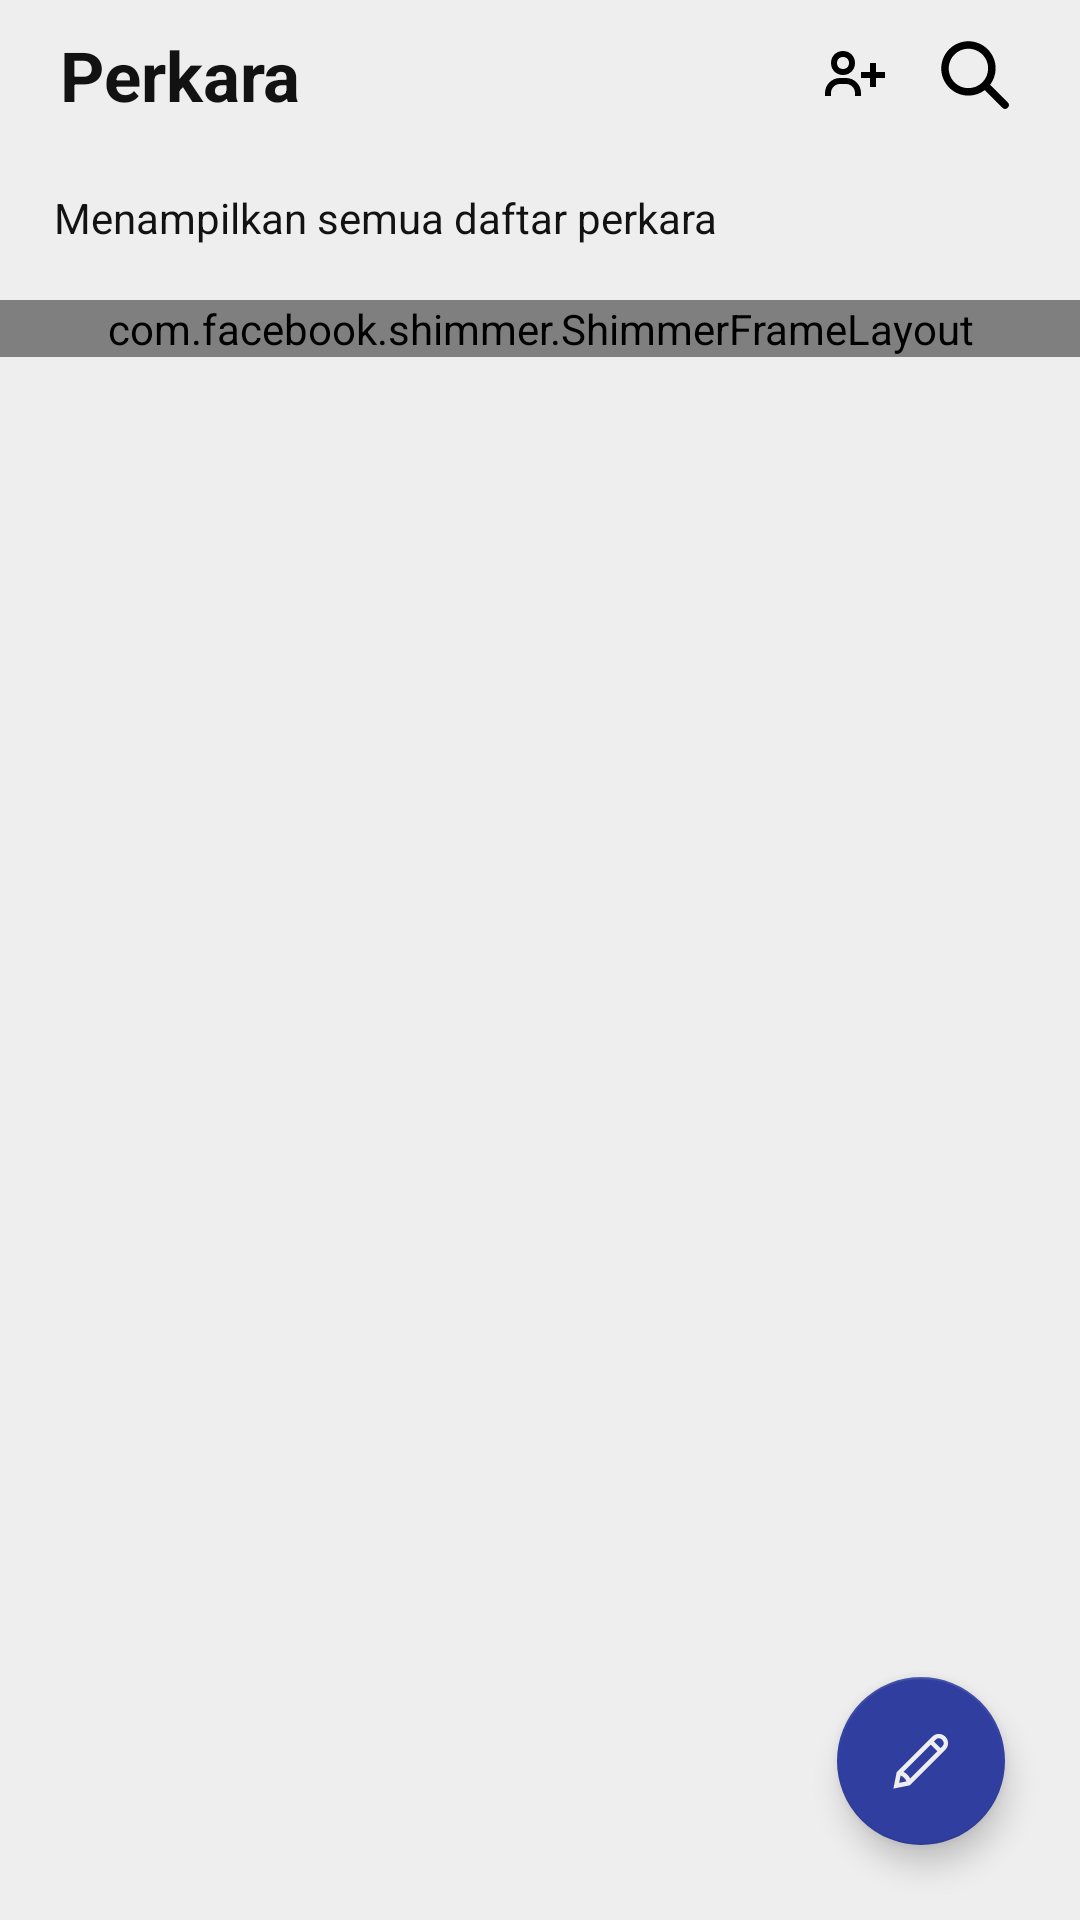

Point at icon controls on the screen. Image size 1080w x 1920h, points as (x=x, y=y).
search: (x=975, y=75)
user add: (x=855, y=73)
